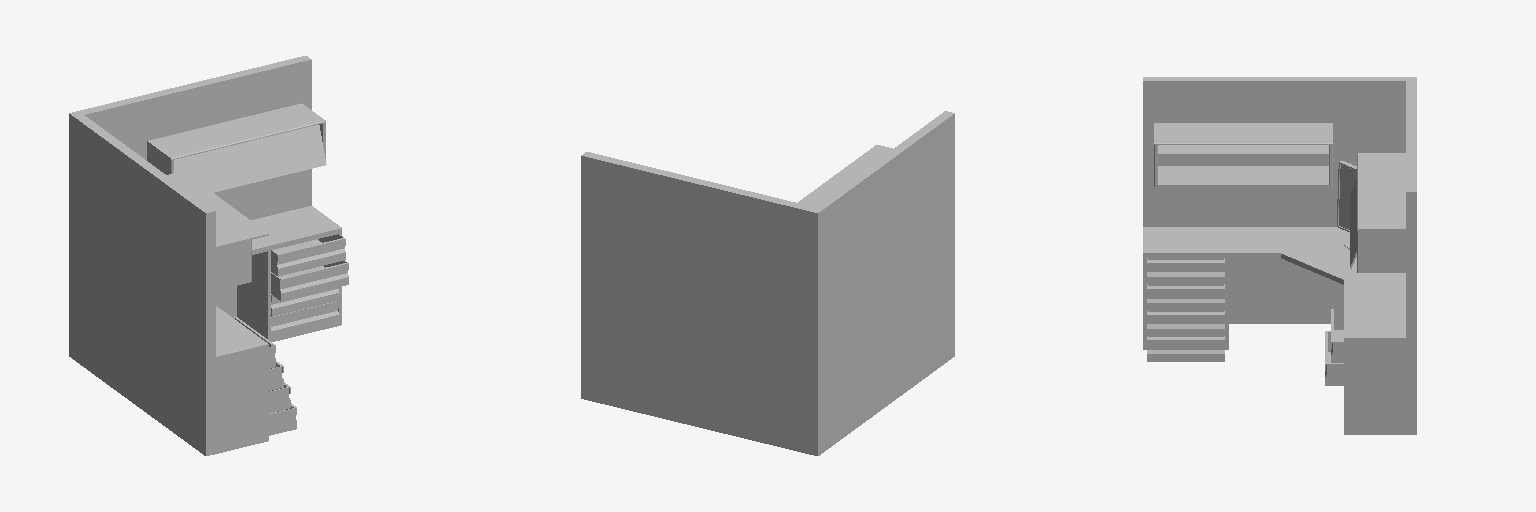
The model's file is scrivania_completa.obj.
3 views of the same model, side by side, from view 1: azimuth 30°, elevation 25°; view 2: azimuth 150°, elevation 25°; view 3: azimuth 270°, elevation 25° (orthographic).
Visible parts, largest first — view 1: Layer_modu, Layer_tapa, Layer_gave, Layer_mueb, Layer_tope; view 2: Layer_modu, Layer_tapa, Layer_gave; view 3: Layer_modu, Layer_tapa, Layer_gave, Layer_tope, Layer_mueb, Layer_cris.
Part boxes in pixels (left/top/right/bottom): Layer_modu: left=75, top=69, right=325, bottom=444; Layer_tapa: left=69, top=56, right=325, bottom=455; Layer_gave: left=167, top=125, right=348, bottom=435; Layer_mueb: left=216, top=233, right=341, bottom=453; Layer_tope: left=216, top=206, right=341, bottom=361; Layer_modu: left=591, top=125, right=948, bottom=446; Layer_tapa: left=581, top=111, right=954, bottom=455; Layer_gave: left=798, top=145, right=892, bottom=206; Layer_modu: left=1154, top=88, right=1405, bottom=317; Layer_tapa: left=1143, top=77, right=1416, bottom=434; Layer_gave: left=1147, top=145, right=1356, bottom=385; Layer_tope: left=1143, top=227, right=1405, bottom=342; Layer_mueb: left=1143, top=258, right=1405, bottom=434; Layer_cris: left=1339, top=165, right=1356, bottom=229.
Size of the model in its own units: 73.47 by 72 by 73.47.